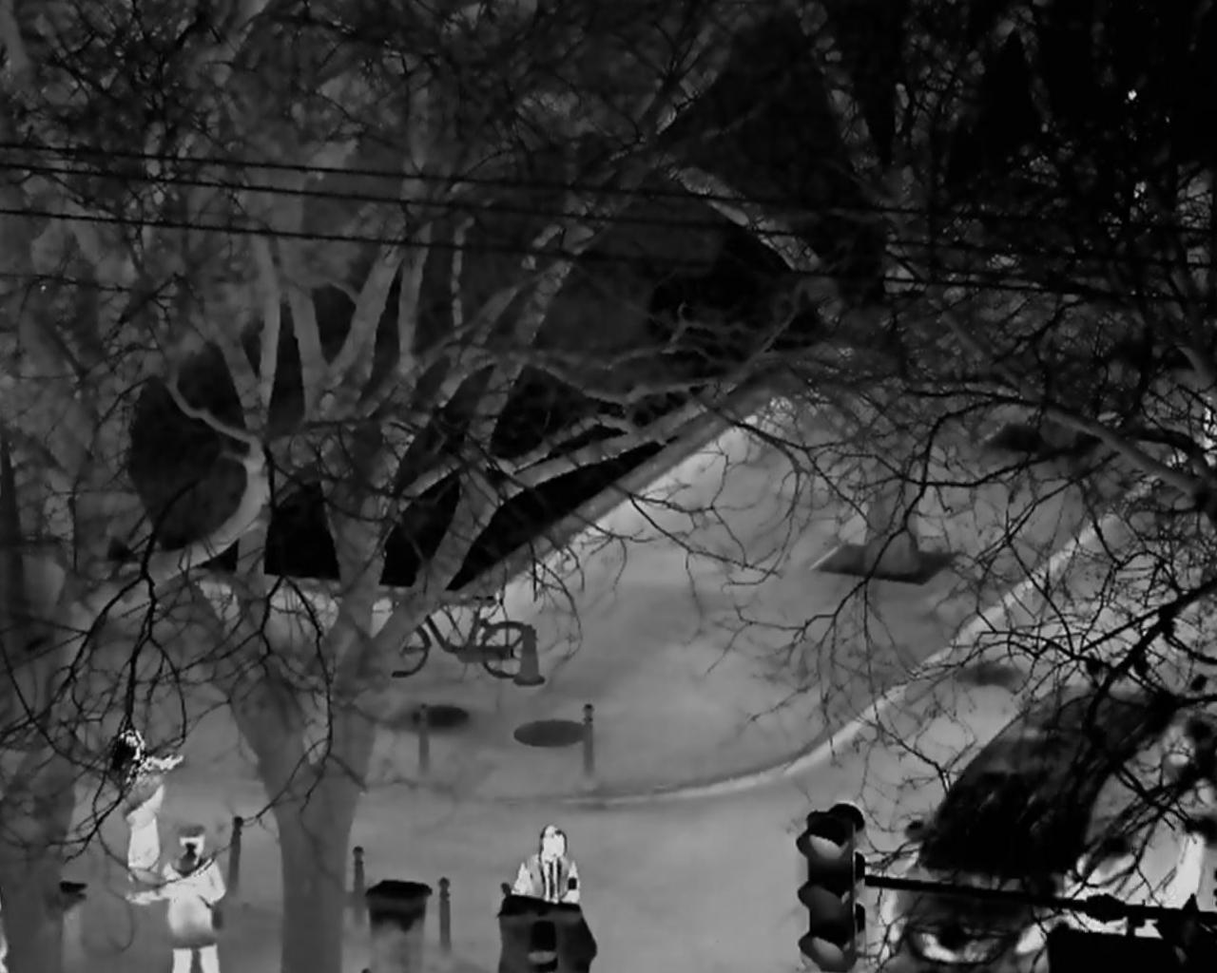person: (117, 729, 184, 876), (162, 824, 228, 973), (512, 824, 581, 906)
